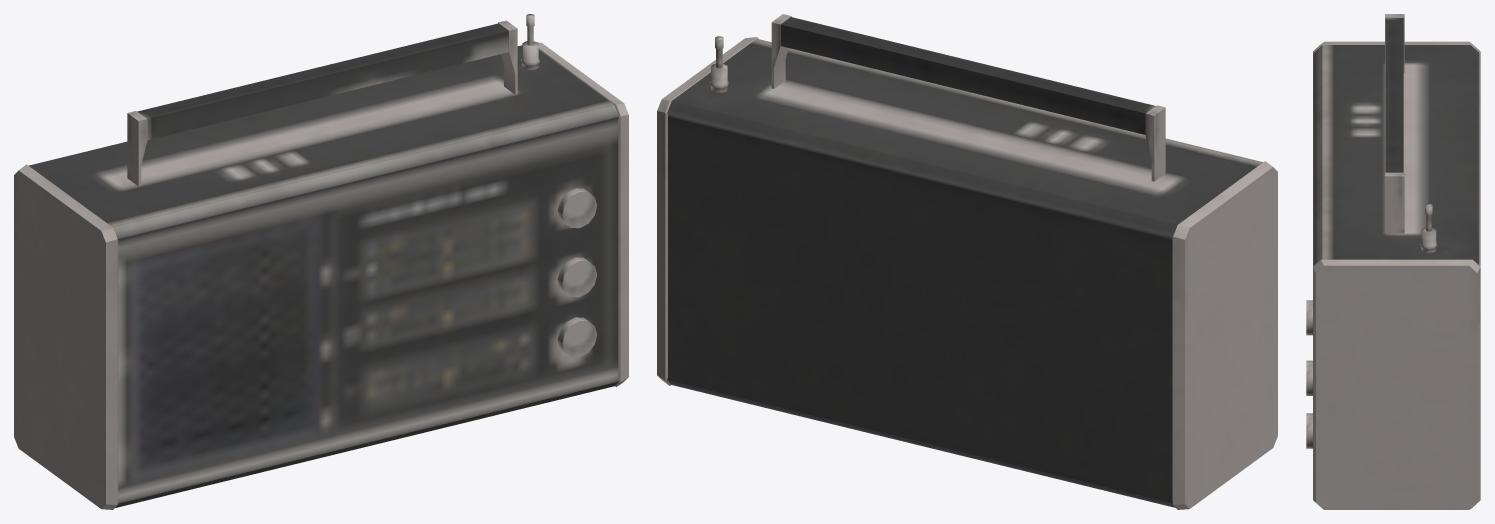
The model's file is D_Radio.FBX.
The picture shows the model from 3 angles, left to right: view 1: azimuth 30°, elevation 25°; view 2: azimuth 150°, elevation 25°; view 3: azimuth 270°, elevation 25°; orthographic projection. The views are drawn at different scales.
Visible parts, largest first — view 1: D_Radio; view 2: D_Radio; view 3: D_Radio.
Boxes of the visible parts, <box> form: D_Radio: <box>14,14,628,509</box>; D_Radio: <box>657,14,1277,509</box>; D_Radio: <box>1306,14,1480,509</box>.
Size of the model in its own units: 40.28 by 25.54 by 13.26.
